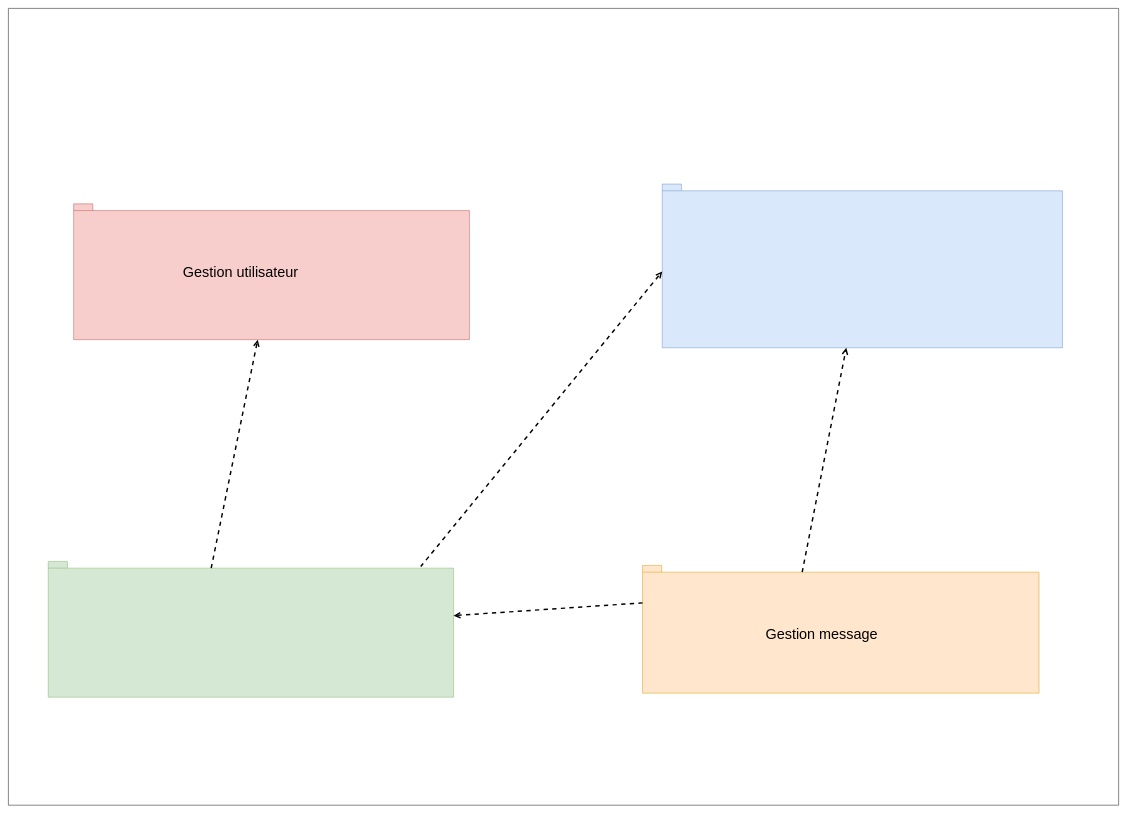
This 1127x814 diagram has some shape labels left out. Here are the shapes that lost their labels. From the top down, the centre of each, then its label:
At [862,266]: "Gestion finance".
At [251,629]: "Gestion flotte".
